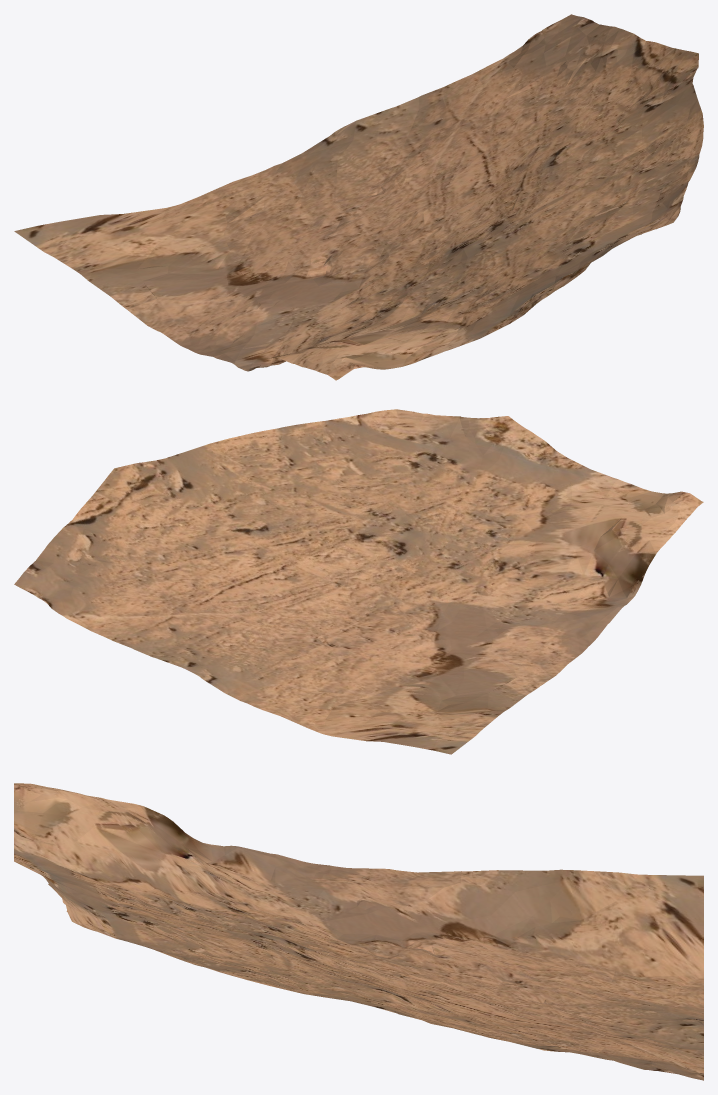
The picture shows the model from 3 angles, top to bottom: view 1: azimuth 30°, elevation 25°; view 2: azimuth 150°, elevation 25°; view 3: azimuth 270°, elevation 25°; orthographic projection. The views are drawn at different scales.
Size of the model in its own units: 2.09 by 0.5343 by 2.09.
Materials: 2 (2 with a texture image).
